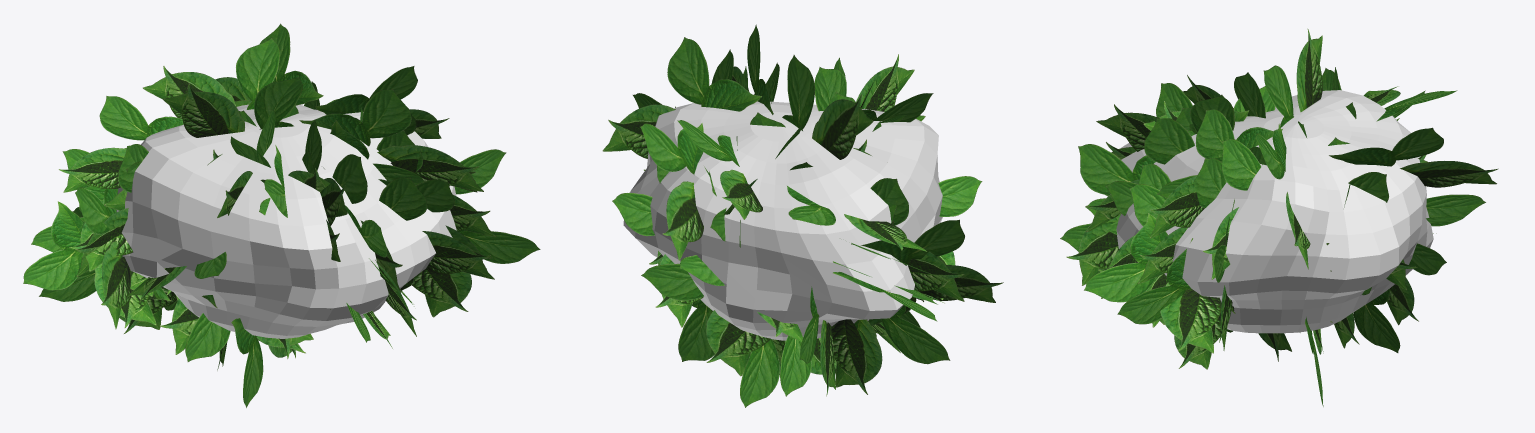
The model's file is куст 1,2ум.fbx.
The picture shows the model from 3 angles, left to right: view 1: azimuth 30°, elevation 25°; view 2: azimuth 150°, elevation 25°; view 3: azimuth 270°, elevation 25°; orthographic projection. The views are drawn at different scales.
Parts seen in each view (by area): view 1: Сфера|Плоскость|Dupli|, Сфера; view 2: Сфера|Плоскость|Dupli|, Сфера; view 3: Сфера|Плоскость|Dupli|, Сфера.
Part boxes in pixels (box(x1,y1,x2,y2)): Сфера|Плоскость|Dupli|: box(23, 23, 540, 407); Сфера: box(116, 104, 456, 338); Сфера|Плоскость|Dupli|: box(602, 24, 1003, 407); Сфера: box(623, 101, 942, 340); Сфера|Плоскость|Dupli|: box(1060, 28, 1498, 406); Сфера: box(1116, 90, 1433, 333).
Size of the model in its own units: 1105 by 749 by 1015.
